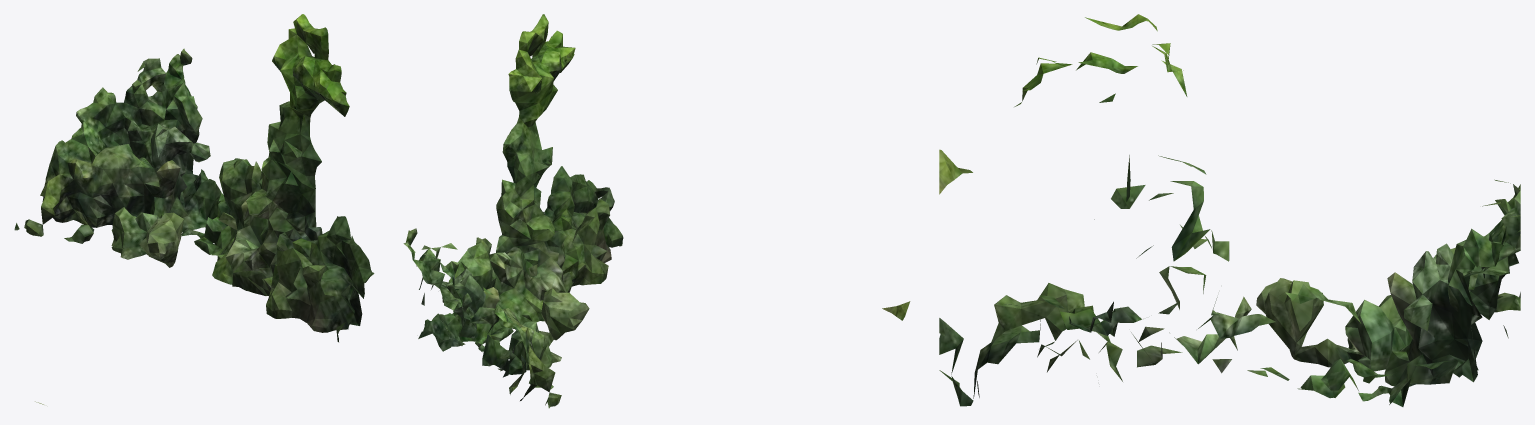
The picture shows the model from 3 angles, left to right: view 1: azimuth 30°, elevation 25°; view 2: azimuth 150°, elevation 25°; view 3: azimuth 270°, elevation 25°; orthographic projection. The views are drawn at different scales.
Size of the model in its own units: 52.22 by 39.77 by 52.22.
Materials: 3 (3 with a texture image).
